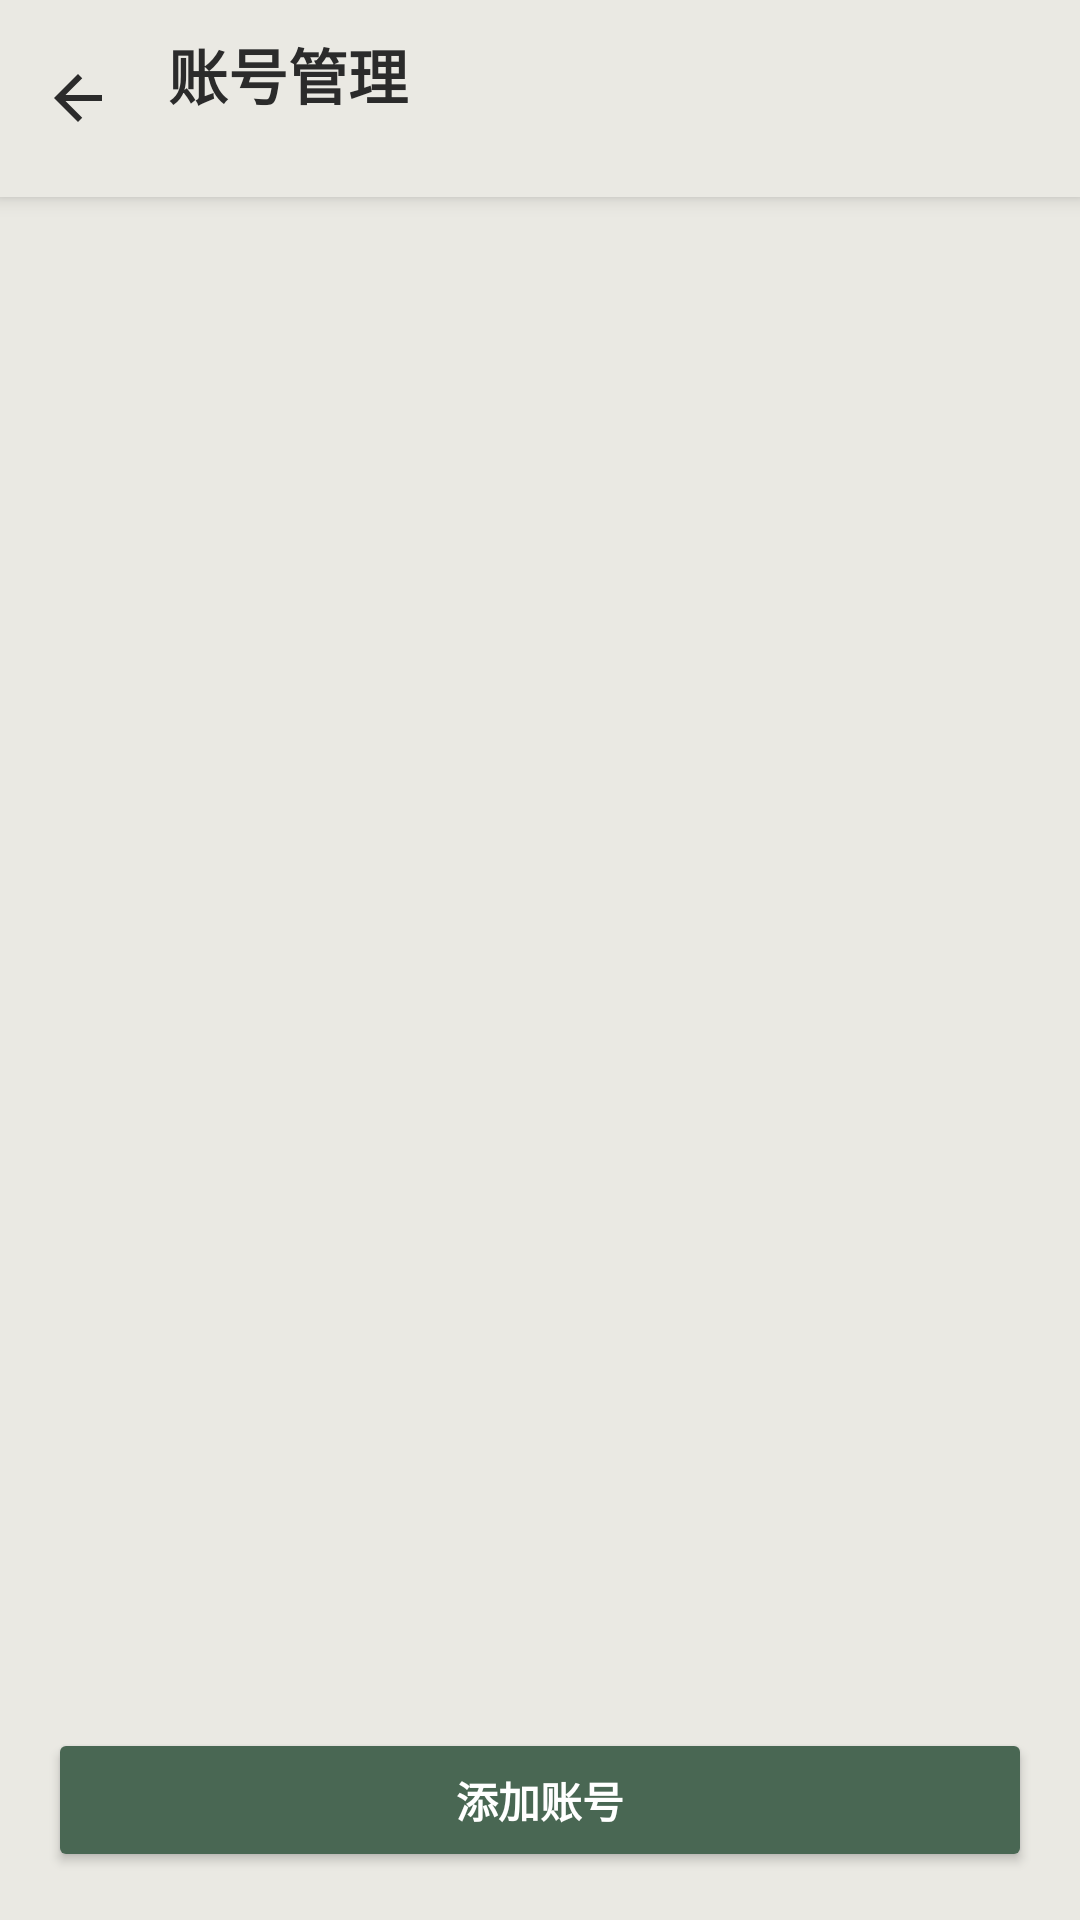

Icons on this 1080*1920 Android screen, each with the point to tap as [x,y]:
返回: [78,98]
